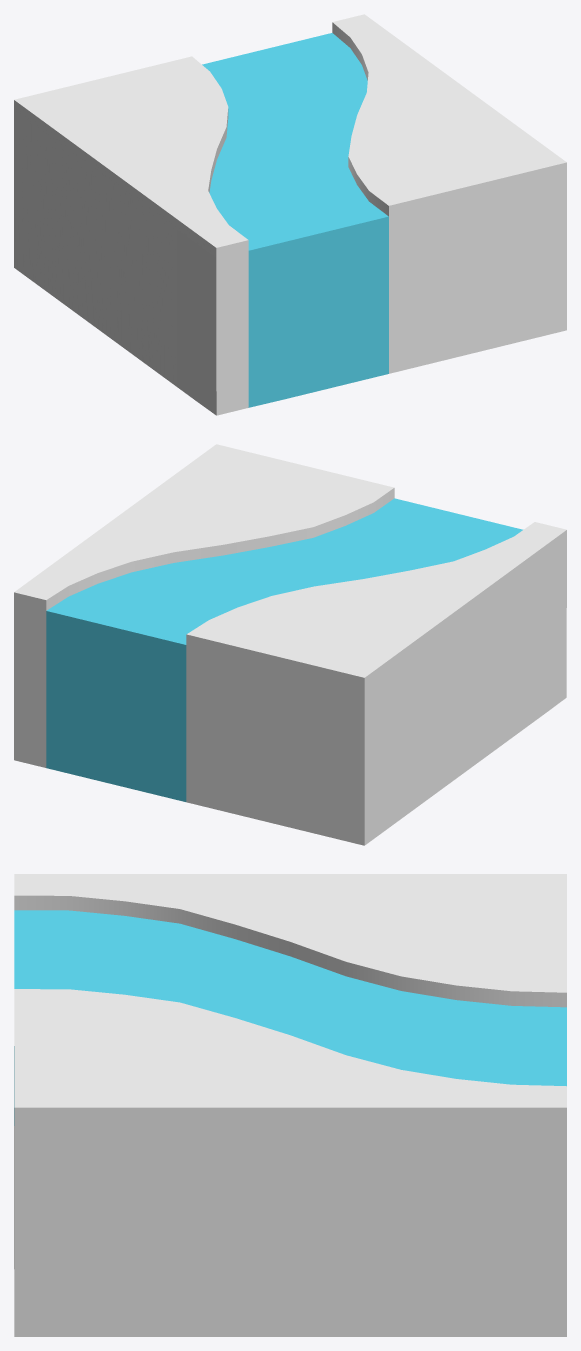
Rendered from miti4.fbx.
3 views of the same model, one above another, from view 1: azimuth 30°, elevation 25°; view 2: azimuth 150°, elevation 25°; view 3: azimuth 270°, elevation 25° (orthographic). The views are drawn at different scales.
Visible parts, largest first — view 1: pCube1; view 2: pCube1; view 3: pCube1.
Boxes of the visible parts, x1,y1,x2,y2 form: pCube1: [14, 14, 566, 415]; pCube1: [14, 444, 566, 845]; pCube1: [14, 874, 566, 1336].
Bounding box in the file's own units: 24.03 × 11 × 24.05.
1 material, 1 textured.
